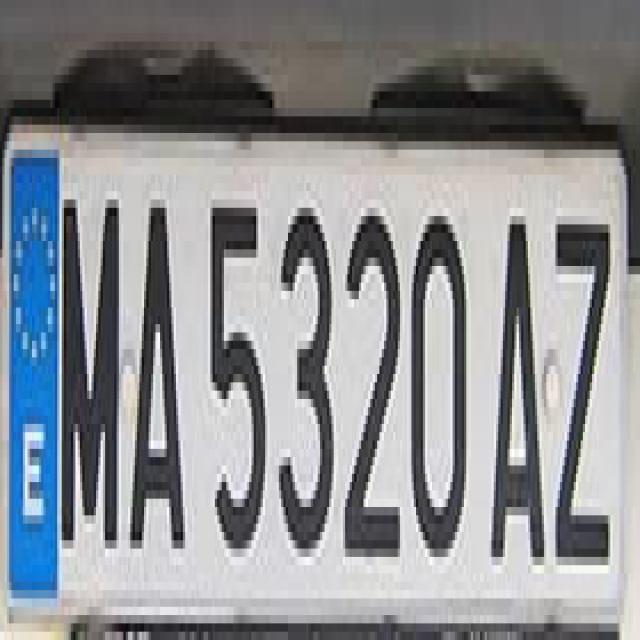EU: (2, 152, 622, 618)
Espagne: (7, 152, 57, 594)
